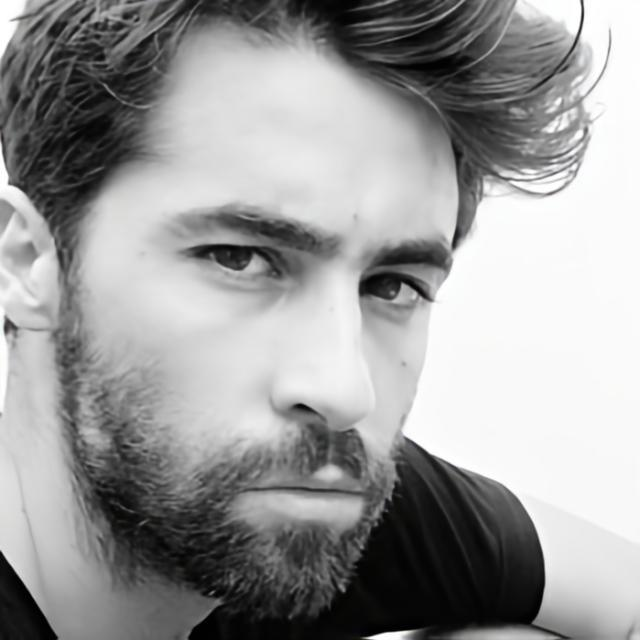anger: (75, 76, 449, 565)
